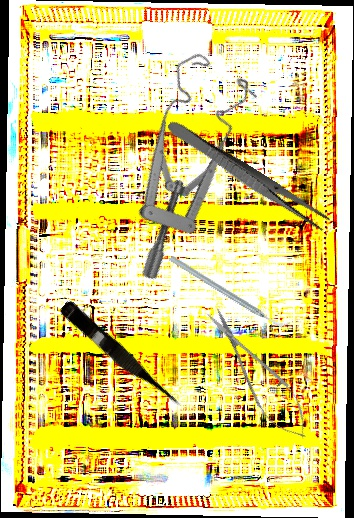Chopper: (168, 223, 291, 360)
Dressing Forceps: (163, 117, 332, 234)
Micro Scissor: (195, 298, 321, 450), (56, 298, 186, 416)
Speculum: (57, 38, 295, 285)
